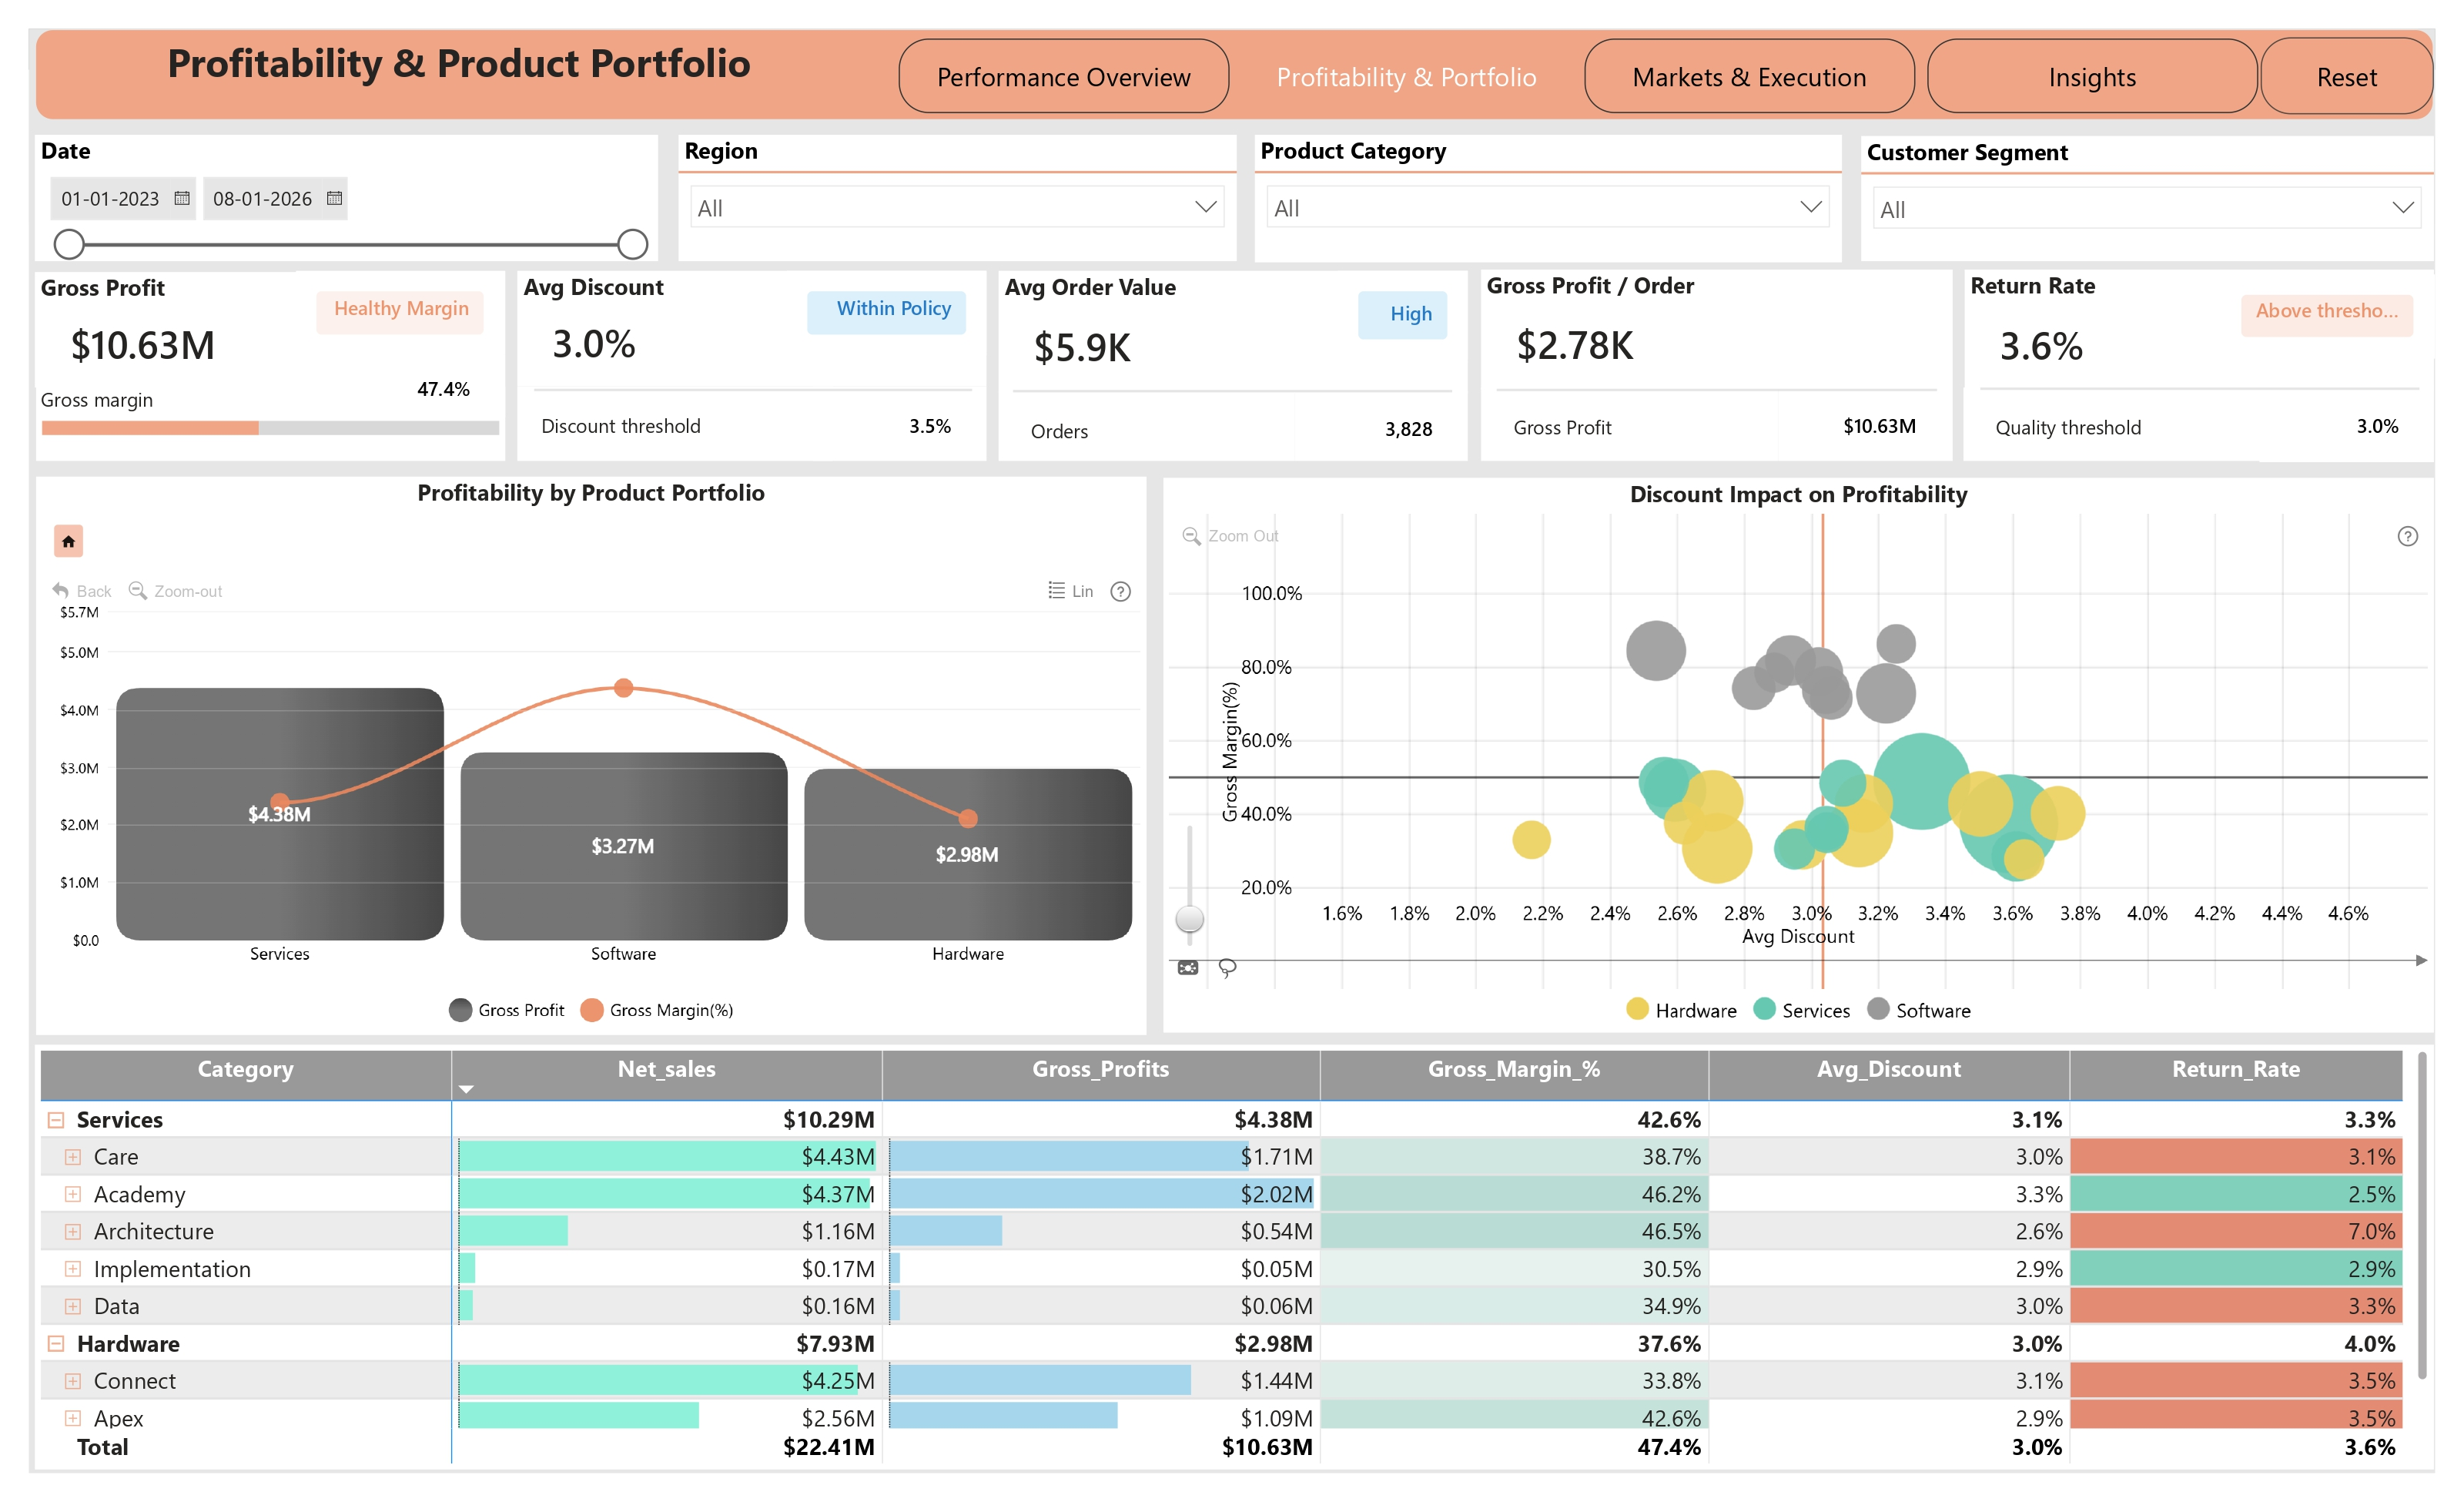

The page's visual inventory and layout, read from the dashboard file:
{"tool":"powerbi","page":{"name":"Profitability & Portfolio","canvas":[2000,1200],"ordinal":1},"visuals":[{"type":"cardVisual","title":"Gross Profit","fields":{"Data":["Key_Metrix.Gross_Profits"]},"box":[4.9,201.5,390,96],"z":0},{"type":"barChart","fields":{"Y":["Key_Metrix.Margin_Achieved","Key_Metrix.Remaning_Margin"]},"box":[5.6,296.8,390,62],"z":1000},{"type":"textbox","box":[4.9,291.5,140,38],"z":2000},{"type":"cardVisual","fields":{"Data":["Key_Metrix.Gross_Margin_%"]},"box":[251.6,270.8,144,52],"z":3000},{"type":"cardVisual","fields":{"Data":["Key_Metrix.Margin_status"]},"box":[222.2,201.2,173.3,70],"z":4000},{"type":"cardVisual","title":"Avg Order Value","fields":{"Data":["Key_Metrix.Avg_Order_Values"]},"box":[805.6,200.8,390,102],"z":5000},{"type":"textbox","box":[805.6,300.8,246,58],"z":6000},{"type":"cardVisual","fields":{"Data":["Key_Metrix.Total_Orders"]},"box":[1051.6,300.8,144,58],"z":7000},{"type":"cardVisual","fields":{"Data":["Key_Metrix.AOV_status"]},"box":[1087.6,200.8,108,74],"z":8000},{"type":"shape","box":[818,225.7,365,150],"z":9000},{"type":"cardVisual","title":"Return Rate","fields":{"Data":["Key_Metrix.Return_Rate"]},"box":[1609.4,199.9,390,101.2],"z":10000},{"type":"textbox","box":[1608.4,297.9,247.1,61.2],"z":11000},{"type":"cardVisual","fields":{"Data":["Key_Metrix.Return_Rate_Threshold"]},"box":[1853.8,296.2,145.6,64.2],"z":12000},{"type":"cardVisual","fields":{"Data":["Key_Metrix.Return_rate_status"]},"box":[1822.4,204.3,177.4,70],"z":13000},{"type":"shape","box":[1622.5,223.5,365,150],"z":14000},{"type":"cardVisual","title":"Avg Discount","fields":{"Data":["Key_Metrix.Avg_Discount"]},"box":[405.6,200.8,390,96],"z":15000},{"type":"textbox","box":[405.6,296.8,262,62],"z":16000},{"type":"cardVisual","fields":{"Data":["Key_Metrix.Discount_thresold"]},"box":[651.6,296.8,144,62],"z":17000},{"type":"cardVisual","fields":{"Data":["Key_Metrix.Discount_status"]},"box":[629.6,200.8,166,70],"z":18000},{"type":"shape","box":[419.6,224.8,364,150],"z":19000},{"type":"cardVisual","title":"Gross Profit / Order ","fields":{"Data":["Key_Metrix.Gross_Profit_per_Order"]},"box":[1207.2,200,391.4,100.3],"z":20000},{"type":"textbox","box":[1207.2,297.9,247.1,61.2],"z":21000},{"type":"cardVisual","fields":{"Data":["Key_Metrix.Gross_Profits"]},"box":[1454.3,297.9,144.3,61.2],"z":22000},{"type":"shape","box":[1219.6,224.8,366,150],"z":23000},{"type":"ZoomChartsFacetChartPaidE77E4ED357DC402ABA005987437CF500","title":"Profitability by Product Portfolio","fields":{"Values1":["Key_Metrix.Gross_Profits"],"Values3":["Key_Metrix.Gross_Margin_%"],"Category":["DimProduct.Category","DimProduct.Subcategory"]},"box":[6,371.8,922.9,463.9],"z":24000},{"type":"ZoomChartsDrillDownBubblePro2B1E93FCC33E4BE6A2BF7A8B1AA7FACA","title":"Discount Impact on Profitability","fields":{"sourceNodes":["Key_Metrix.Avg_Discount"],"targetNodes":["Key_Metrix.Gross_Margin_%"],"nodeSize":["Key_Metrix.Net_sales"],"legend":["DimProduct.Category"],"category":["DimProduct.ProductName"]},"box":[942.9,372.7,1056.5,461.6],"z":25000},{"type":"pivotTable","fields":{"Rows":["DimProduct.Category","DimProduct.Brand","DimProduct.ProductName"],"Values":["Key_Metrix.Net_sales","Key_Metrix.Gross_Profits","Key_Metrix.Gross_Margin_%","Key_Metrix.Avg_Discount","Key_Metrix.Return_Rate"]},"box":[4.9,844.2,1994.5,353],"z":26000},{"type":"slicer","title":"Date","fields":{"Values":["DimDate.Date"]},"box":[4.9,88,518.1,105.1],"z":27000},{"type":"slicer","title":"Region","fields":{"Values":["DimGeography.Region"]},"box":[540.1,88,464.4,105.1],"z":28000},{"type":"slicer","title":"Product Category","fields":{"Values":["DimProduct.Category"]},"box":[1018.8,88.4,488.5,105.6],"z":29000},{"type":"slicer","title":"Customer Segment","fields":{"Values":["DimCustomer.CustomerSegment"]},"box":[1523,88.9,476.4,103.7],"z":30000},{"type":"textbox","box":[4.9,0,1994.4,76],"z":31000},{"type":"textbox","box":[2.5,0,710.5,76],"z":32000},{"type":"pageNavigator","box":[722.5,7.5,1132.5,62.5],"z":33000},{"type":"actionButton","box":[1854.7,7.4,144.6,63.7],"z":34000}]}

Visuals, with their boxes on the page's 2000x1200 design canvas (x1, y1, x2, y2). These are canvas units, not pixel positions in the 2464x1502 screenshot, which may show the page scaled, cropped or inside an application window:
"Gross Profit" cardVisual: x1=5 y1=202 x2=395 y2=298
barChart - Key_Metrix.Margin_Achieved x Key_Metrix.Remaning_Margin: x1=6 y1=297 x2=396 y2=359
textbox: x1=5 y1=292 x2=145 y2=330
cardVisual - Key_Metrix.Gross_Margin_%: x1=252 y1=271 x2=396 y2=323
cardVisual - Key_Metrix.Margin_status: x1=222 y1=201 x2=396 y2=271
"Avg Order Value" cardVisual: x1=806 y1=201 x2=1196 y2=303
textbox: x1=806 y1=301 x2=1052 y2=359
cardVisual - Key_Metrix.Total_Orders: x1=1052 y1=301 x2=1196 y2=359
cardVisual - Key_Metrix.AOV_status: x1=1088 y1=201 x2=1196 y2=275
shape: x1=818 y1=226 x2=1183 y2=376
"Return Rate" cardVisual: x1=1609 y1=200 x2=1999 y2=301
textbox: x1=1608 y1=298 x2=1856 y2=359
cardVisual - Key_Metrix.Return_Rate_Threshold: x1=1854 y1=296 x2=1999 y2=360
cardVisual - Key_Metrix.Return_rate_status: x1=1822 y1=204 x2=2000 y2=274
shape: x1=1622 y1=224 x2=1988 y2=374
"Avg Discount" cardVisual: x1=406 y1=201 x2=796 y2=297
textbox: x1=406 y1=297 x2=668 y2=359
cardVisual - Key_Metrix.Discount_thresold: x1=652 y1=297 x2=796 y2=359
cardVisual - Key_Metrix.Discount_status: x1=630 y1=201 x2=796 y2=271
shape: x1=420 y1=225 x2=784 y2=375
"Gross Profit / Order " cardVisual: x1=1207 y1=200 x2=1599 y2=300
textbox: x1=1207 y1=298 x2=1454 y2=359
cardVisual - Key_Metrix.Gross_Profits: x1=1454 y1=298 x2=1599 y2=359
shape: x1=1220 y1=225 x2=1586 y2=375
"Profitability by Product Portfolio" ZoomChartsFacetChartPaidE77E4ED357DC402ABA005987437CF500: x1=6 y1=372 x2=929 y2=836
"Discount Impact on Profitability" ZoomChartsDrillDownBubblePro2B1E93FCC33E4BE6A2BF7A8B1AA7FACA: x1=943 y1=373 x2=1999 y2=834
pivotTable - DimProduct.Category x DimProduct.Brand: x1=5 y1=844 x2=1999 y2=1197
"Date" slicer: x1=5 y1=88 x2=523 y2=193
"Region" slicer: x1=540 y1=88 x2=1004 y2=193
"Product Category" slicer: x1=1019 y1=88 x2=1507 y2=194
"Customer Segment" slicer: x1=1523 y1=89 x2=1999 y2=193
textbox: x1=5 y1=0 x2=1999 y2=76
textbox: x1=2 y1=0 x2=713 y2=76
pageNavigator: x1=722 y1=8 x2=1855 y2=70
actionButton: x1=1855 y1=7 x2=1999 y2=71
